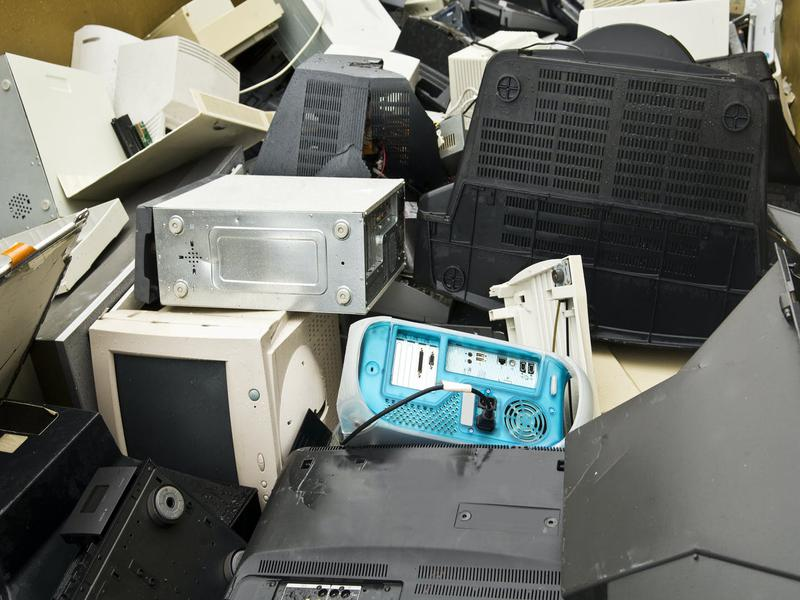tv_pc: (549, 240, 800, 600), (87, 307, 346, 506)
